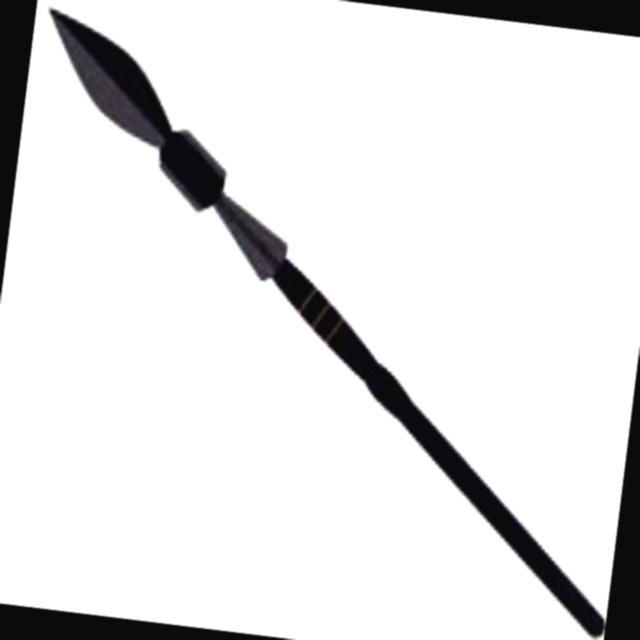spear: (0, 9, 640, 634)
